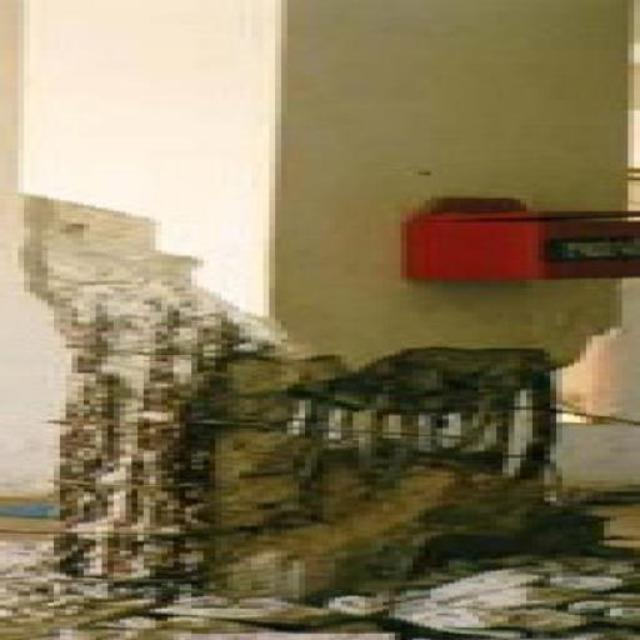D0w0: (42, 222, 639, 613), (30, 326, 589, 621)
